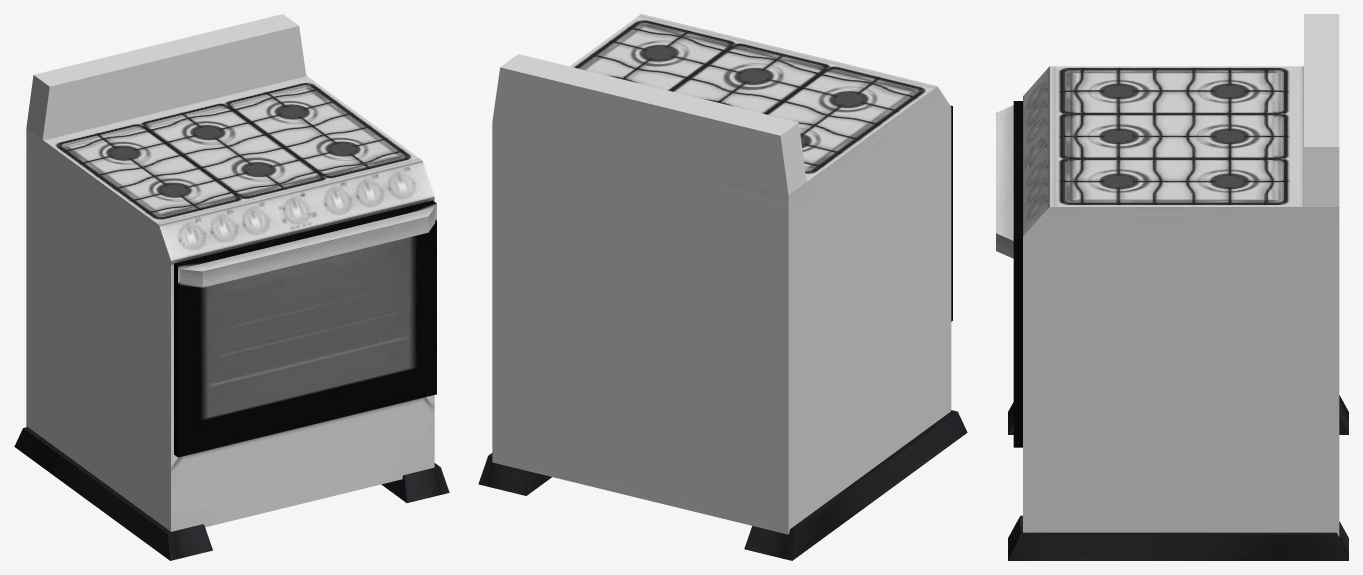
Rendered from Stove-col.glb.
3 views of the same model, side by side, from view 1: azimuth 30°, elevation 25°; view 2: azimuth 150°, elevation 25°; view 3: azimuth 270°, elevation 25° (orthographic). The views are drawn at different scales.
Visible parts, largest first — view 1: Stove-col, Stove_door; view 2: Stove-col; view 3: Stove-col, Stove_door.
Part boxes in pixels (x1=…): Stove-col: x1=14, y1=14, x2=449, y2=560; Stove_door: x1=174, y1=200, x2=436, y2=457; Stove-col: x1=478, y1=14, x2=967, y2=560; Stove-col: x1=1008, y1=14, x2=1348, y2=560; Stove_door: x1=996, y1=101, x2=1022, y2=447.
Bounding box in the file's own units: 0.9628 × 1.22 × 0.9642.
1 material, 1 textured.
